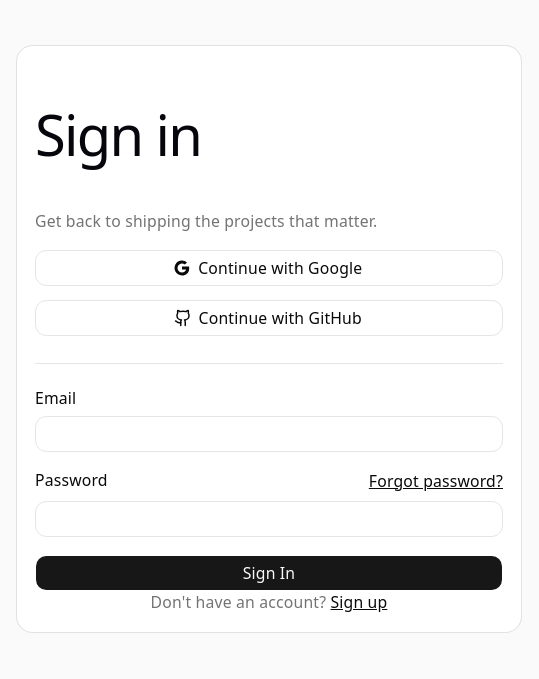
it: LoginPage › shows inline validation errors
The width and height of the screenshot is (539, 679).
In the field labelled "Email": (269,434) [35,416,503,452], type "not-an-email"
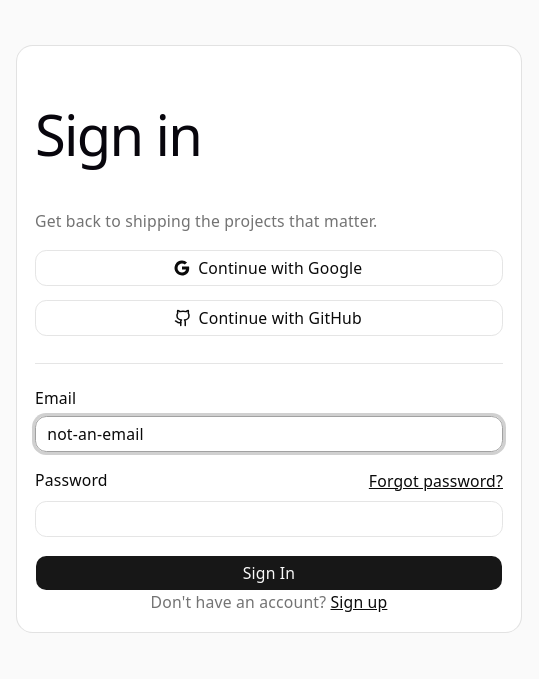
Click the button "Sign In": (269,573) [35,555,503,591]
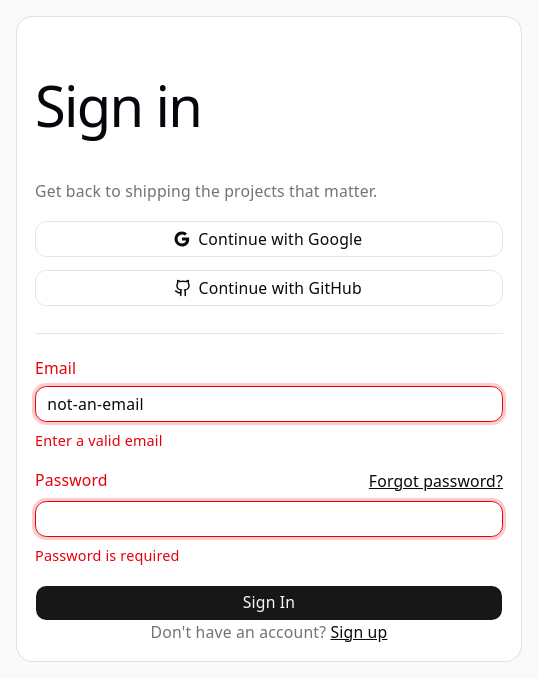
Result: the text "Enter a valid email" is shown at [35,431,163,450]
Result: the text "Password is required" is shown at [35,546,180,565]
